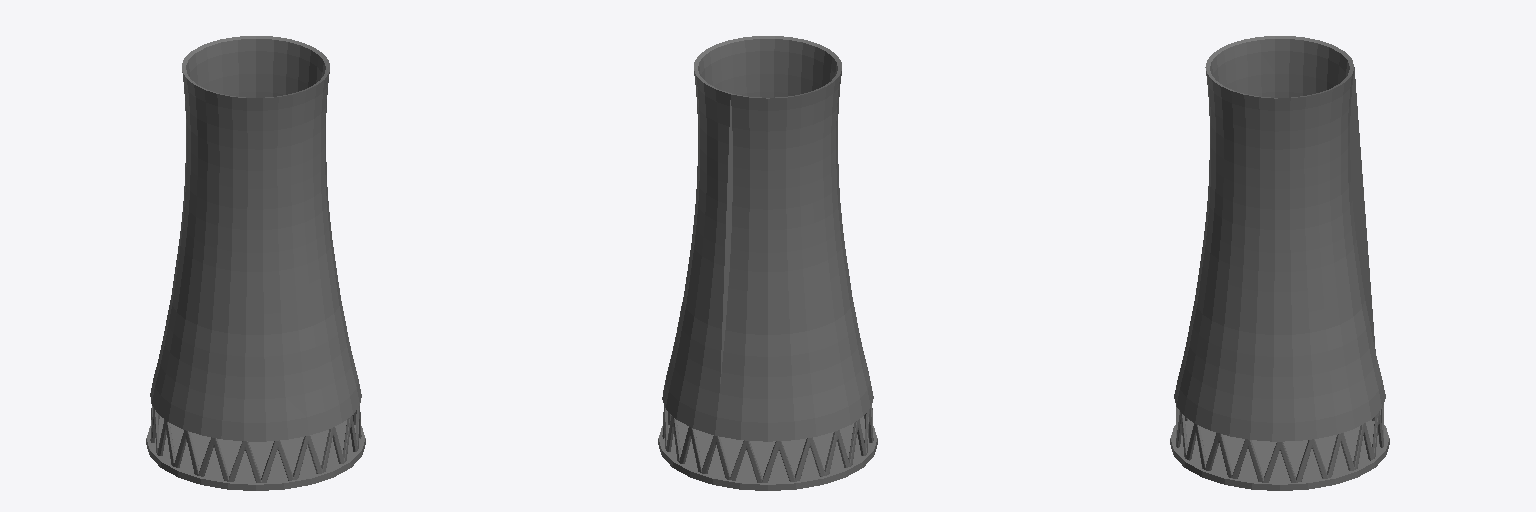
3 views of the same model, side by side, from view 1: azimuth 30°, elevation 25°; view 2: azimuth 150°, elevation 25°; view 3: azimuth 270°, elevation 25° (orthographic).
Visible parts, largest first — view 1: my_obj:transform1, my_obj:pDisc1, polySurface21; view 2: my_obj:transform1, my_obj:pDisc1, polySurface21; view 3: my_obj:transform1, my_obj:pDisc1, polySurface21.
Boxes of the visible parts, x1=… form: my_obj:transform1: x1=150, y1=36, x2=361, y2=441; my_obj:pDisc1: x1=146, y1=416, x2=365, y2=490; polySurface21: x1=150, y1=406, x2=361, y2=482; my_obj:transform1: x1=662, y1=36, x2=873, y2=441; my_obj:pDisc1: x1=658, y1=416, x2=877, y2=490; polySurface21: x1=662, y1=406, x2=873, y2=482; my_obj:transform1: x1=1174, y1=36, x2=1385, y2=441; my_obj:pDisc1: x1=1170, y1=419, x2=1389, y2=490; polySurface21: x1=1176, y1=405, x2=1383, y2=482.
Size of the model in its own units: 20 by 38.01 by 20.